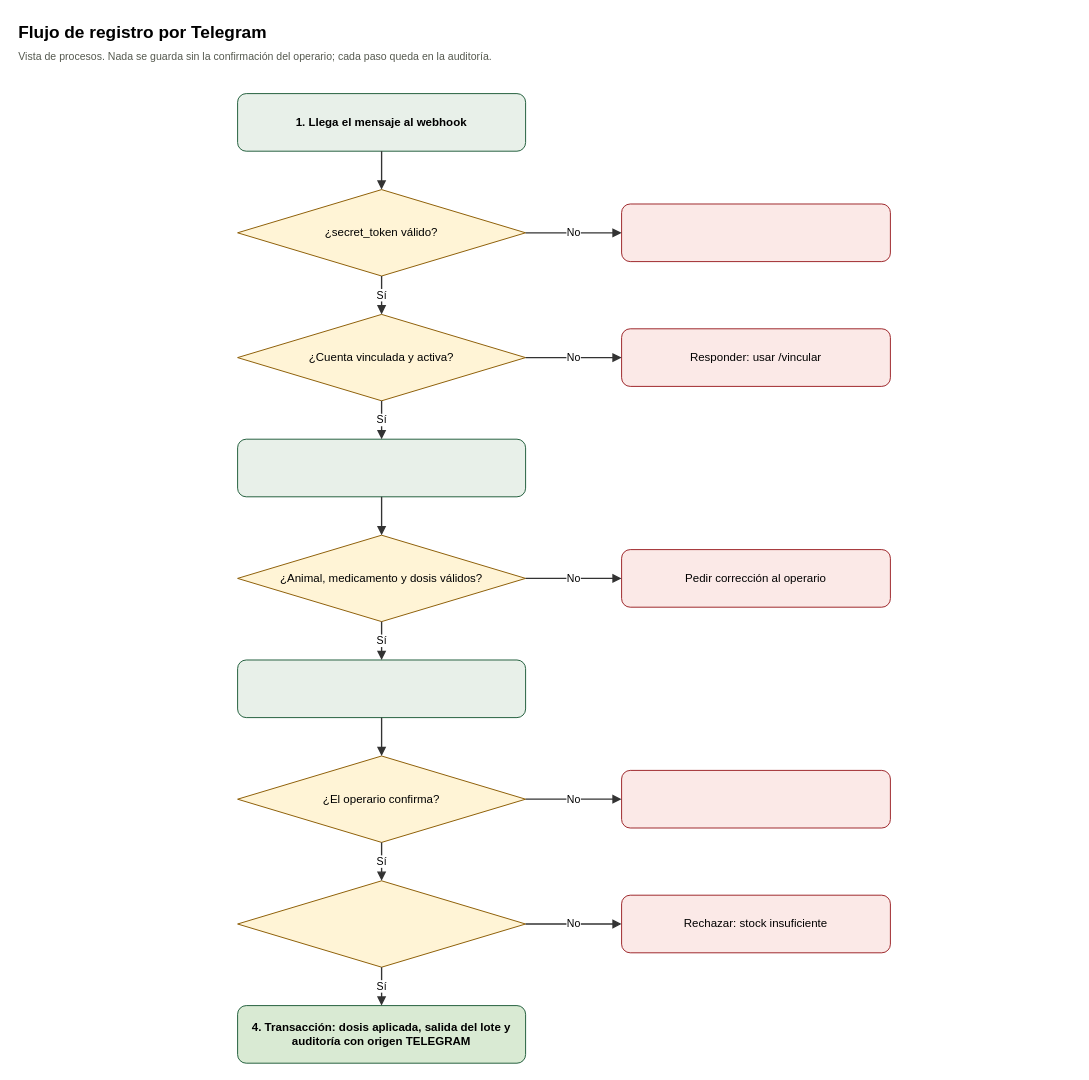
Image size: 1089x1080. Some labels were removed from this diagram. The box of each missing label's shape, as (x1, y1, x2, y2) in pixels:
2. Gemini interpreta el texto: (237, 438, 526, 497)
3. Mostrar resumen con botones Confirmar y Cancelar: (237, 659, 526, 718)
Cancelar: no se guarda nada: (621, 769, 890, 828)
Rechazar con HTTP 403: (621, 203, 890, 262)
¿Stock suficiente en el lote?: (237, 880, 526, 967)
